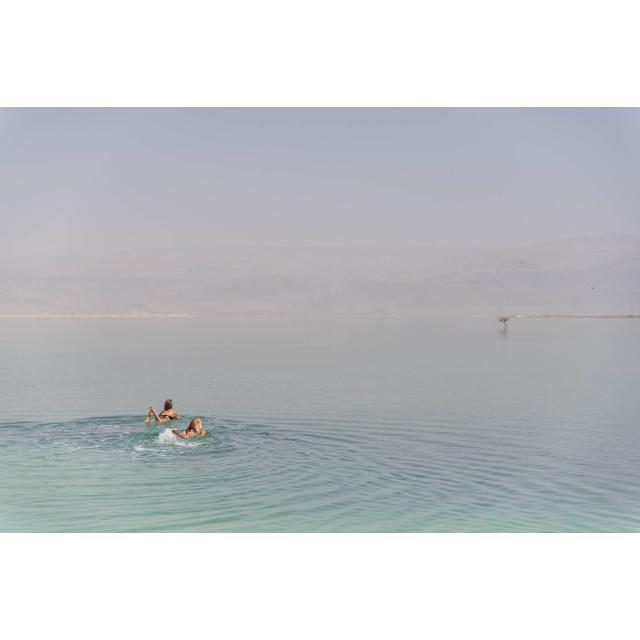human: (172, 416, 206, 440), (145, 399, 178, 423)
